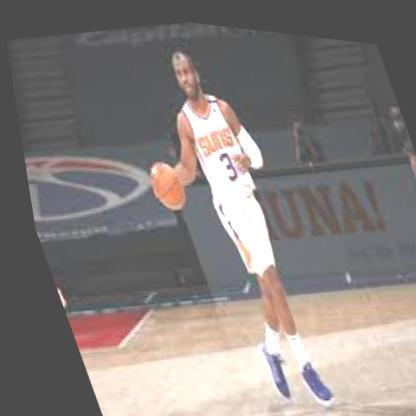basketball: (138, 153, 184, 210)
